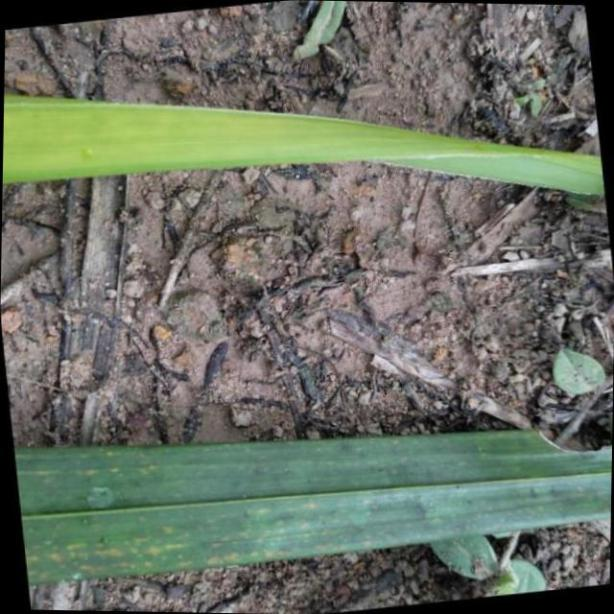nitrogen: (0, 88, 614, 193)
